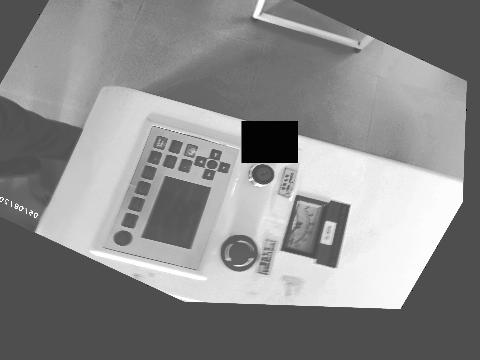Amp_Meter: (283, 196, 328, 255)
Display: (143, 177, 210, 248)
Down_button: (194, 156, 206, 167)
Emergency_Stop: (221, 235, 258, 272)
Enter_button: (184, 144, 198, 158)
Esc_button: (179, 159, 192, 172)
File_button: (148, 151, 162, 164)
Frame_button: (169, 140, 182, 153)
Left_button: (203, 169, 215, 180)
Max-Power_button: (142, 166, 156, 180)
Min-Power_button: (136, 181, 150, 195)
Origin_button: (164, 155, 177, 168)
Power_switch: (248, 164, 274, 187)
Pulse_button: (122, 213, 137, 228)
Reset_button: (115, 231, 131, 246)
Right_button: (210, 149, 222, 160)
Speed_button: (129, 197, 143, 211)
Start-Pause_button: (154, 136, 167, 150)
Up_button: (218, 162, 230, 173)
Z_U_button: (207, 160, 217, 169)
